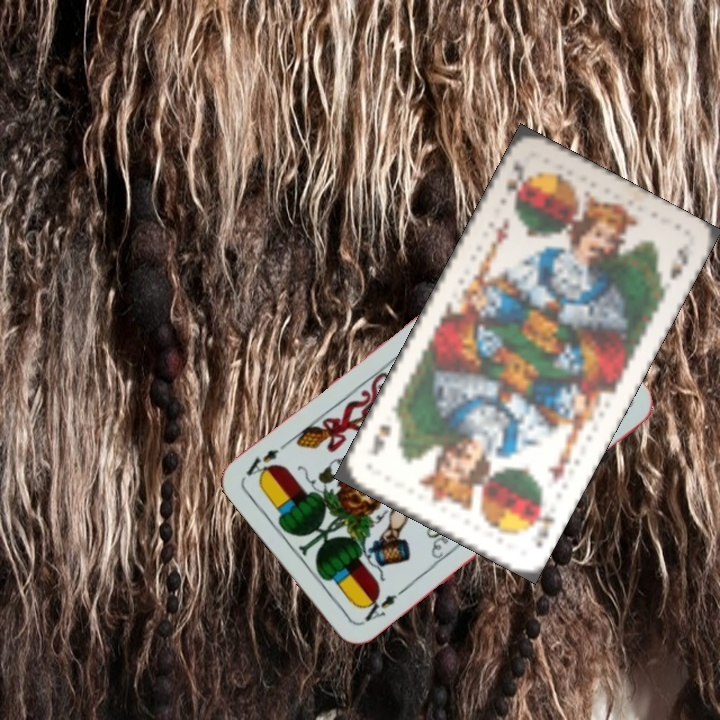EA: (356, 585, 407, 627)
SK: (523, 509, 558, 552), (502, 158, 531, 208)
